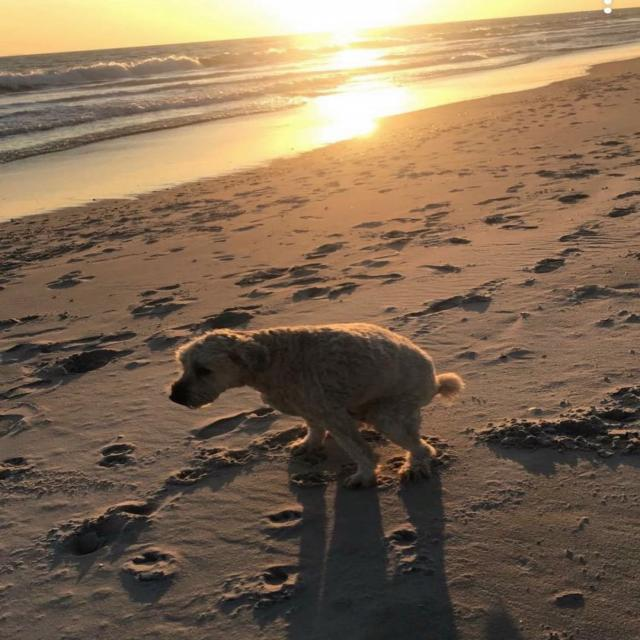squatting: (153, 321, 470, 493)
